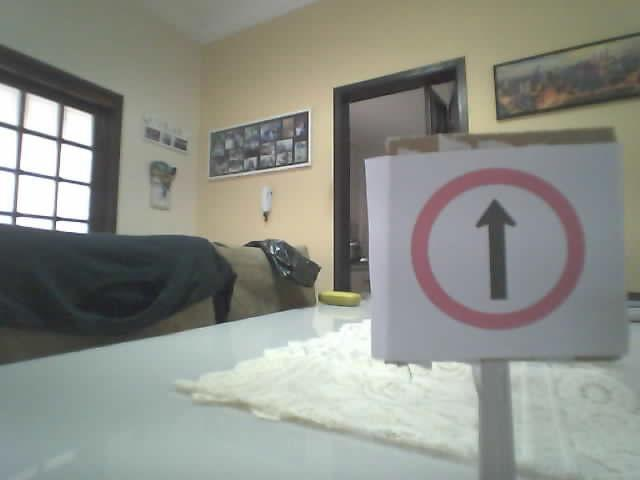R-26_frente: (409, 167, 583, 327)
